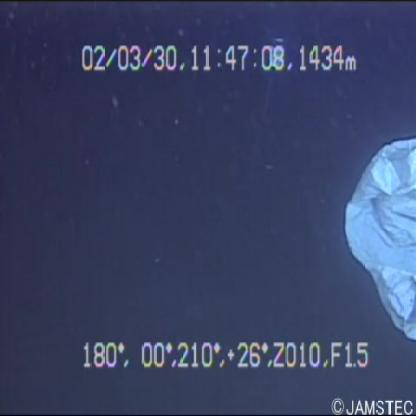Rác: (330, 108, 416, 340)
